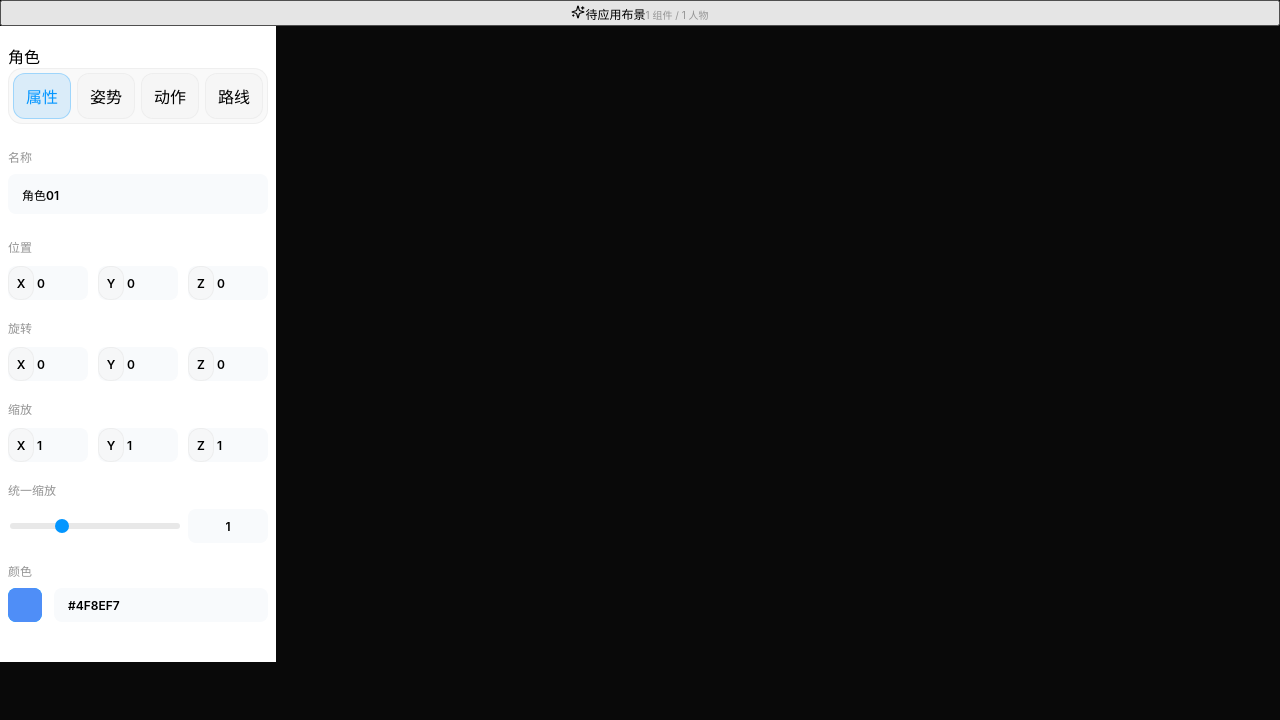
shows a persistent return entry in object panels and resumes the pending layout editor
Click the button with aria-label "返回待应用布景".
click(640, 13)  # box [0, 0, 1279, 26]
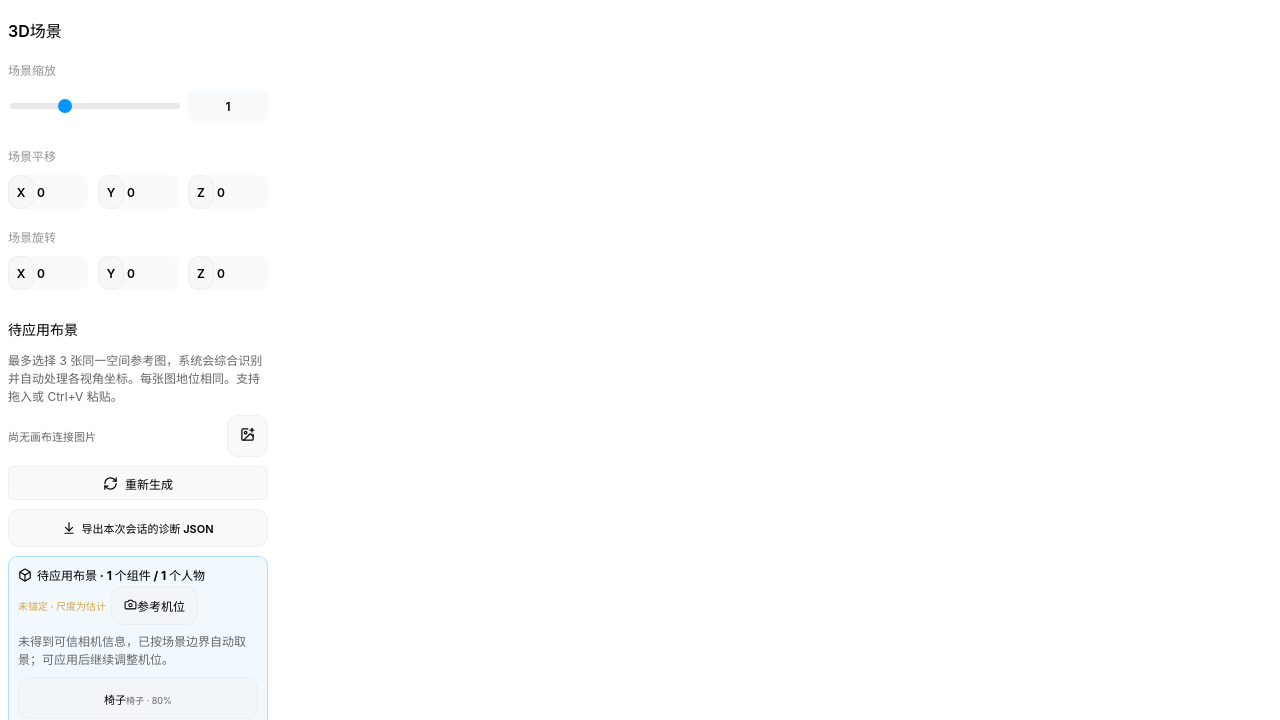
Check: the heading "待应用布景" is shown, box [8, 321, 78, 338]
